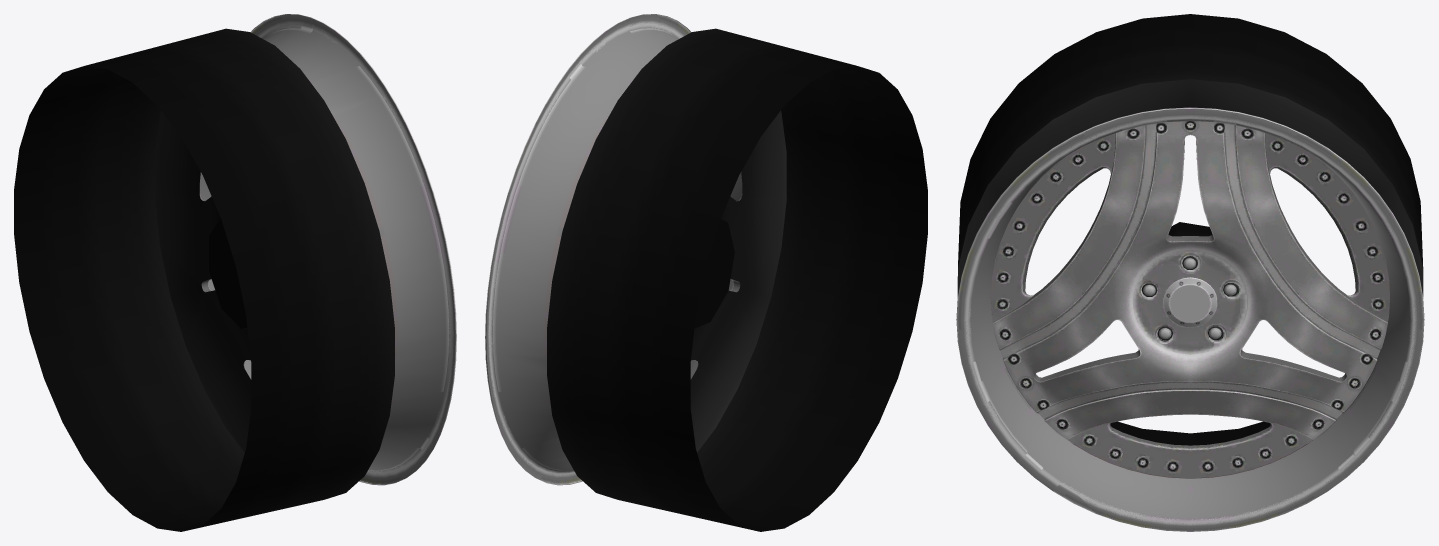
File: wheel6.fbx
The picture shows the model from 3 angles, left to right: view 1: azimuth 30°, elevation 25°; view 2: azimuth 150°, elevation 25°; view 3: azimuth 270°, elevation 25°; orthographic projection. The views are drawn at different scales.
Parts seen in each view (by area): view 1: asa_af140_wheel_wheel_inner_rim_, asa_af140_wheel_wheel_chrome_rim_, wheel_rim; view 2: asa_af140_wheel_wheel_inner_rim_, asa_af140_wheel_wheel_chrome_rim_, wheel_rim; view 3: asa_af140_wheel_wheel_chrome_rim_, asa_af140_wheel_wheel_inner_rim_, wheel_rim.
Boxes of the visible parts, box(x1,y1,x2,y2) form: asa_af140_wheel_wheel_inner_rim_: box(14, 28, 394, 531); asa_af140_wheel_wheel_chrome_rim_: box(199, 15, 455, 485); wheel_rim: box(200, 14, 456, 485); asa_af140_wheel_wheel_inner_rim_: box(547, 28, 927, 531); asa_af140_wheel_wheel_chrome_rim_: box(486, 14, 742, 485); wheel_rim: box(485, 14, 741, 485); asa_af140_wheel_wheel_chrome_rim_: box(957, 107, 1423, 531); asa_af140_wheel_wheel_inner_rim_: box(957, 14, 1423, 445); wheel_rim: box(956, 107, 1424, 531).
Bounding box in the file's own units: 0.2273 × 0.464 × 0.4641.
1 material, 1 textured.
